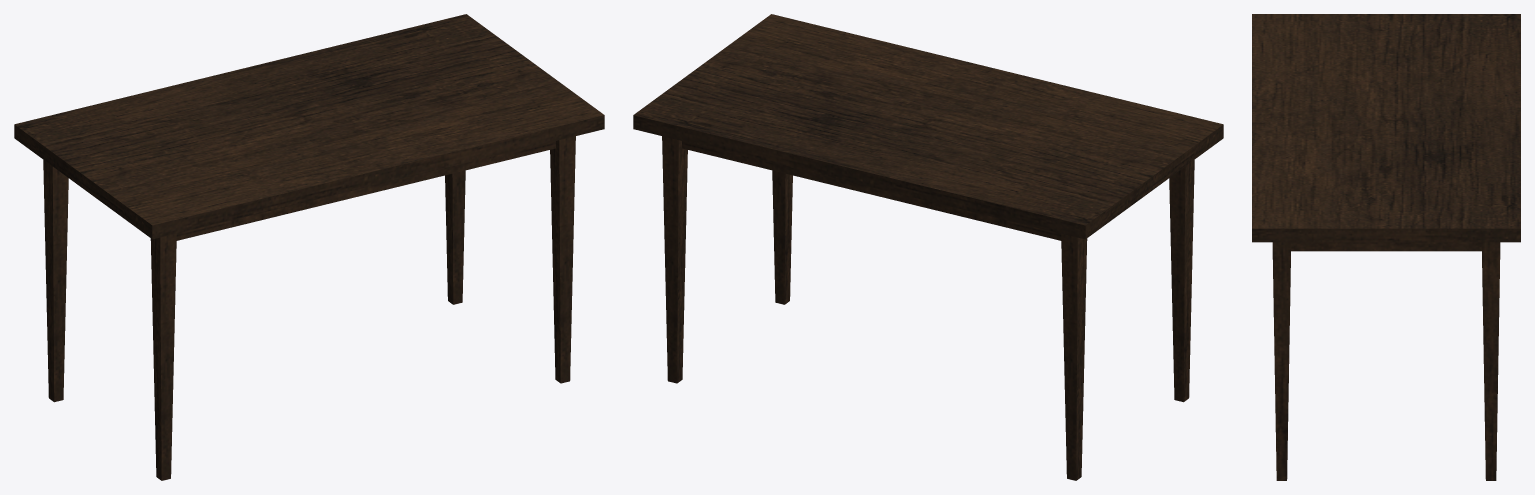
Rendered from table_large_2_1.fbx.
3 views of the same model, side by side, from view 1: azimuth 30°, elevation 25°; view 2: azimuth 150°, elevation 25°; view 3: azimuth 270°, elevation 25° (orthographic). The views are drawn at different scales.
Parts seen in each view (by area): view 1: table_large_2_1; view 2: table_large_2_1; view 3: table_large_2_1.
Part boxes in pixels (x1,y1,x2,y2): table_large_2_1: (14,14,604,480); table_large_2_1: (633,14,1223,480); table_large_2_1: (1252,14,1520,480).
Size of the model in its own units: 1.7 by 0.9 by 0.97.
